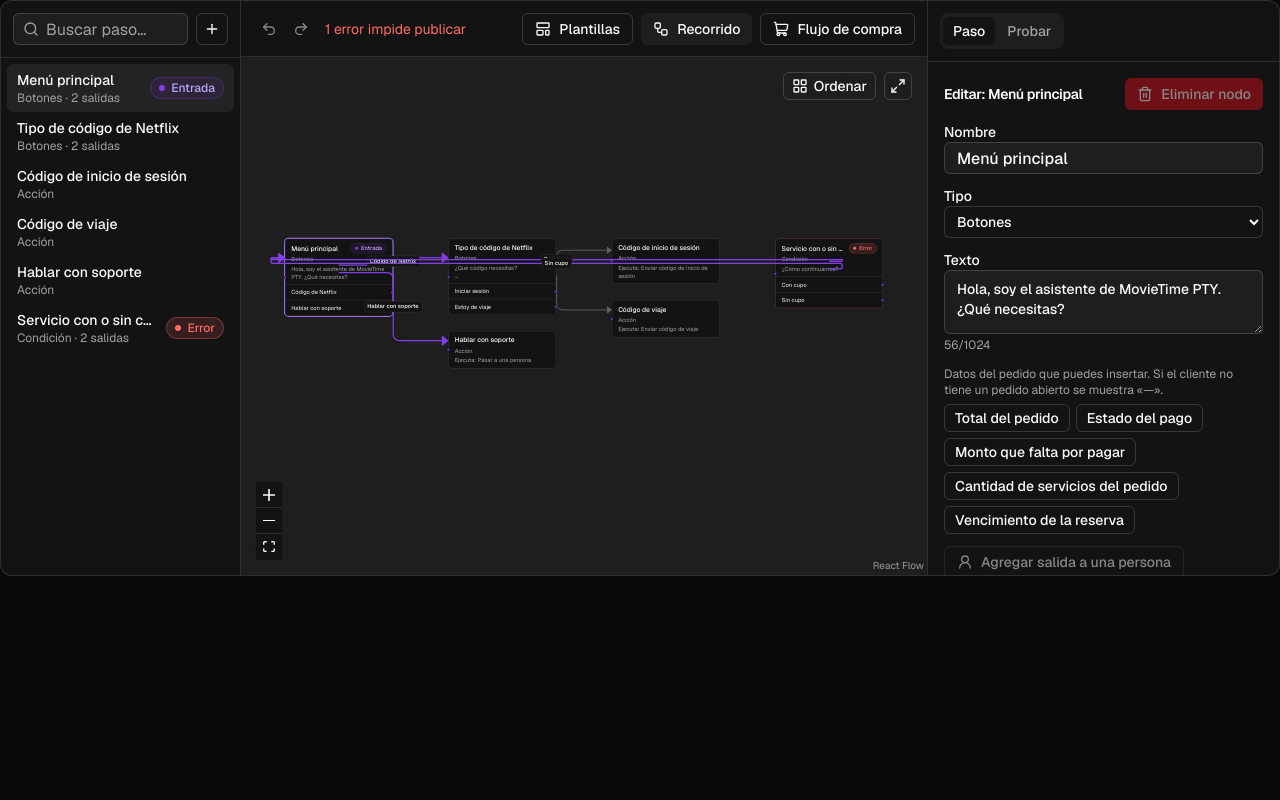
plantillas de flujo › reemplaza el borrador por el recorrido base solo tras confirmar
Click the button "Plantillas". click: click(578, 28)
box: x1=522 y1=12 x2=633 y2=44
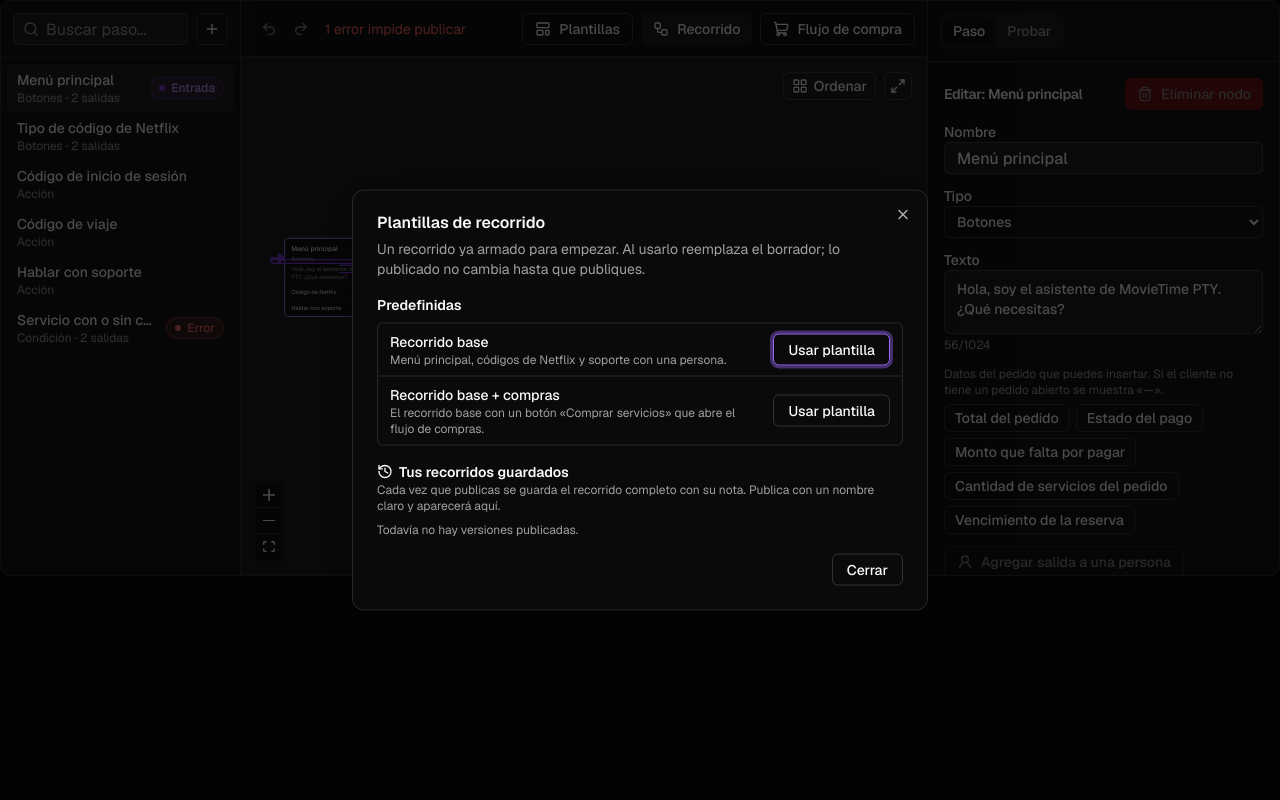
Click the button with aria-label "Usar plantilla Recorrido base". click: click(832, 350)
box: x1=773 y1=334 x2=890 y2=366
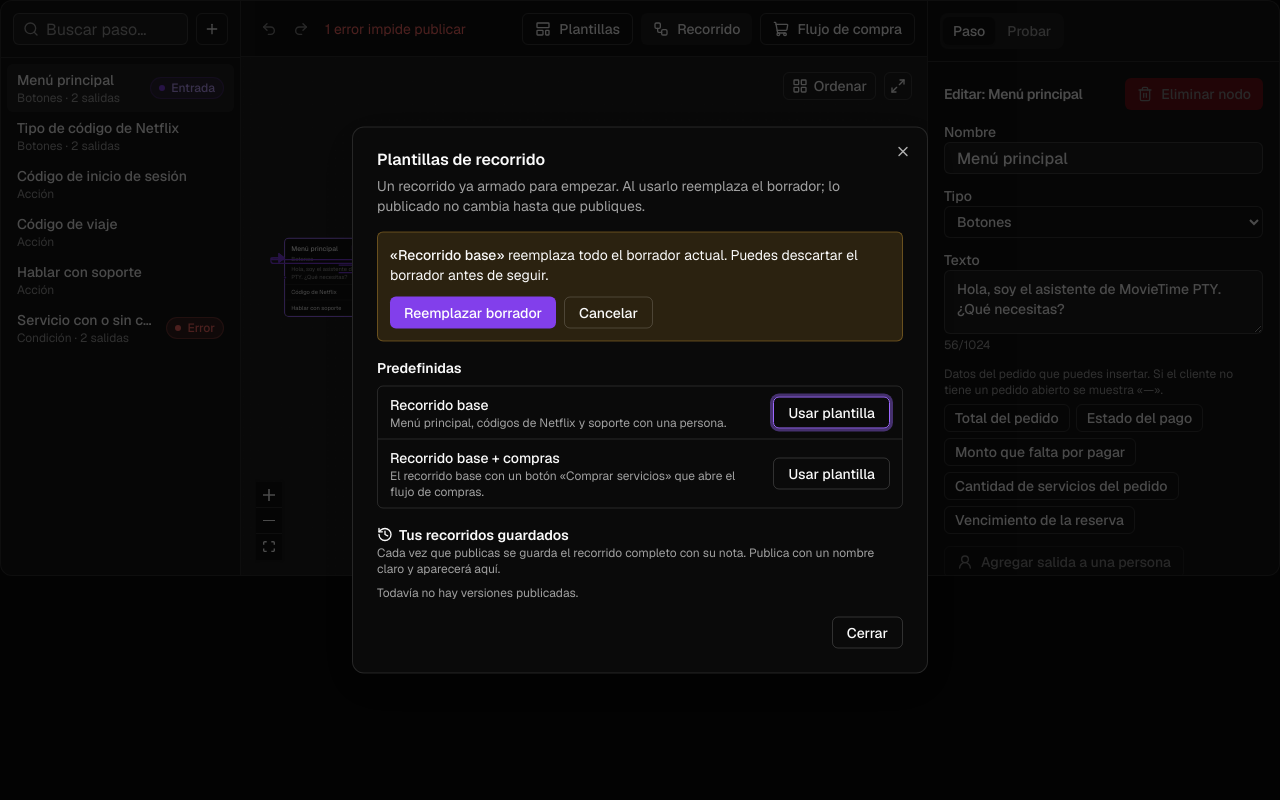
Expected: the message shows "reemplaza todo el borrador", x1=390 y1=246 x2=858 y2=284
Click the button "Cancelar". click: click(608, 312)
box: x1=564 y1=296 x2=653 y2=328
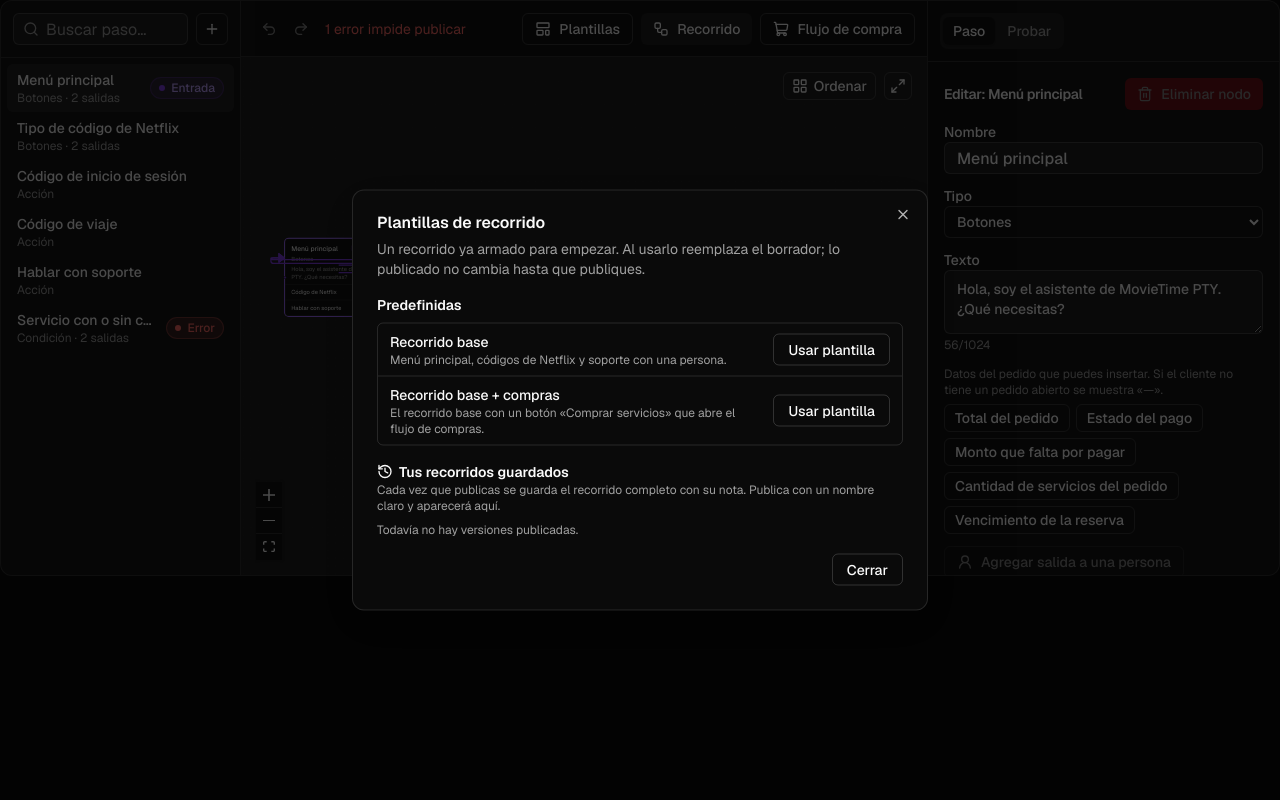
Click the button with aria-label "Usar plantilla Recorrido base". click: click(832, 350)
box: x1=773 y1=334 x2=890 y2=366
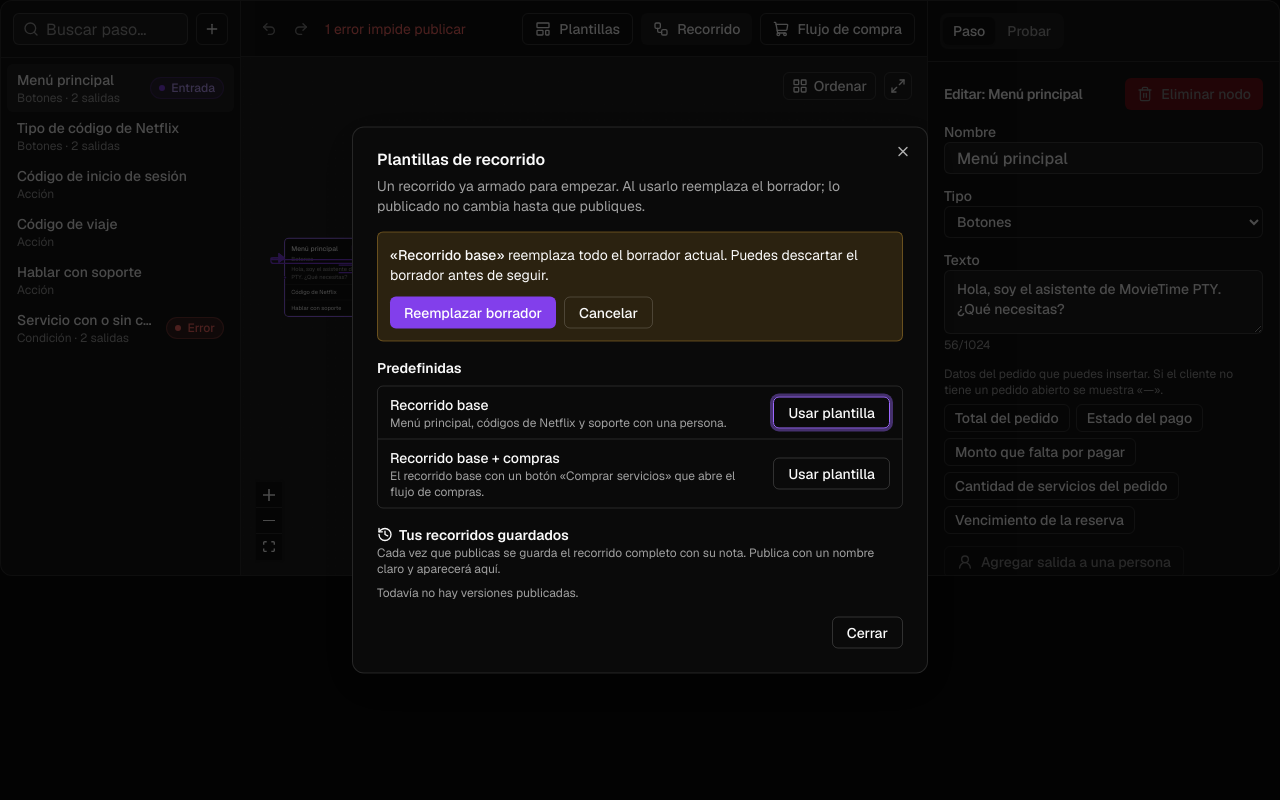
Click the button "Reemplazar borrador". click: click(473, 312)
box: x1=390 y1=296 x2=556 y2=328
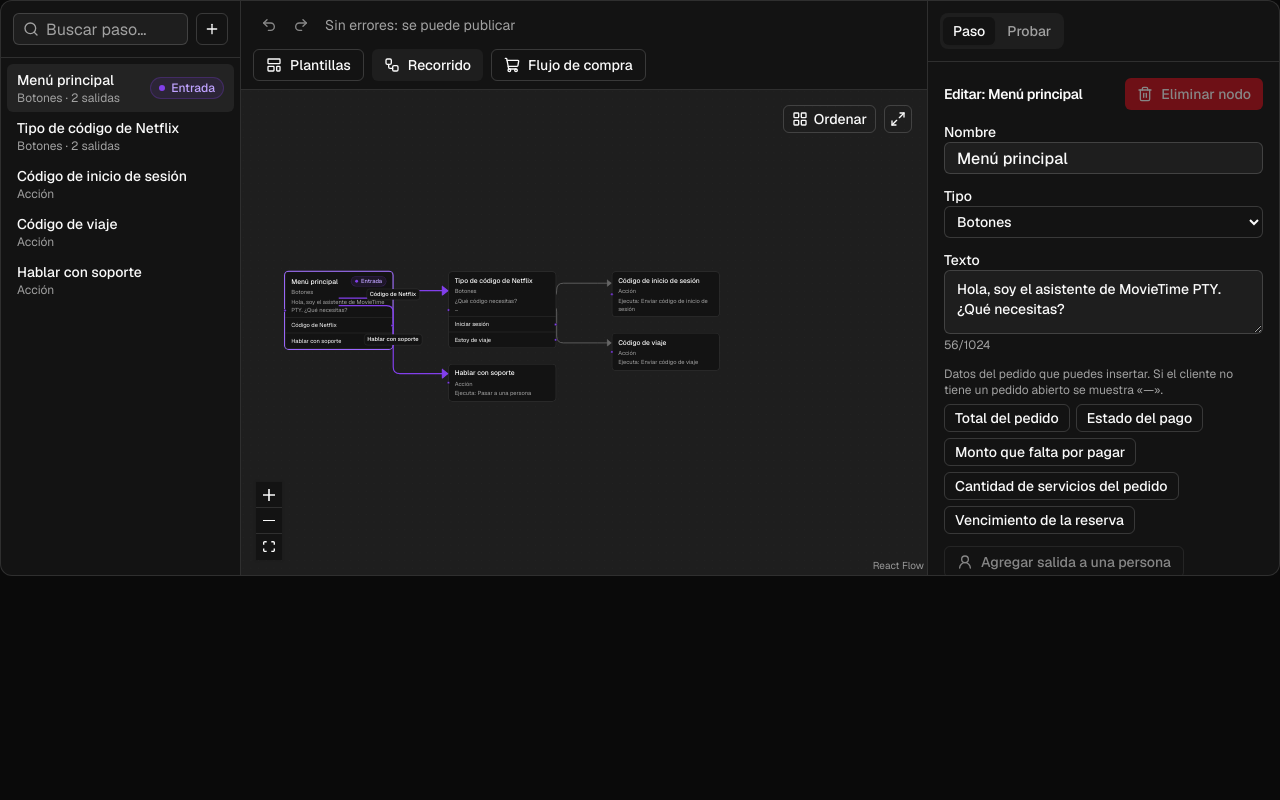
Expected: the button "Servicio con o sin cupo" is gone
